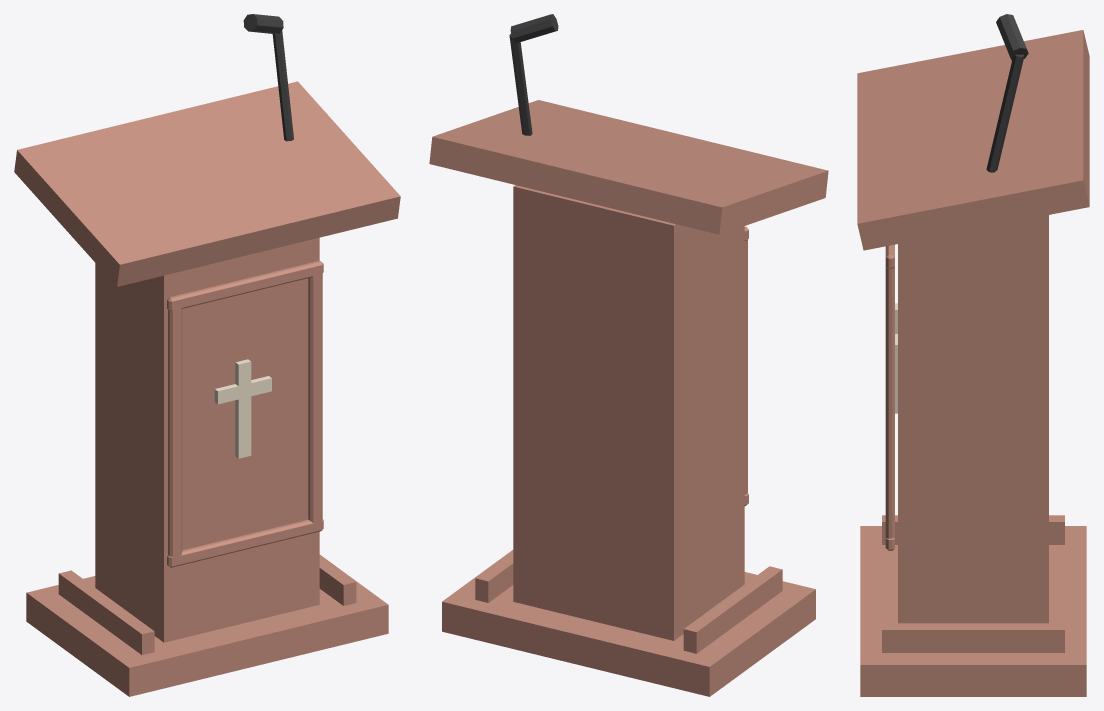
The picture shows the model from 3 angles, left to right: view 1: azimuth 30°, elevation 25°; view 2: azimuth 150°, elevation 25°; view 3: azimuth 270°, elevation 25°; orthographic projection. The views are drawn at different scales.
Parts seen in each view (by area): view 1: Body, Reading top, Foot, Raised panel molding, Raised panel molding.001, Lower plinth, Panel trim.001, Panel trim, Cross upright, Lower plinth.001, Gooseneck microphone, Cross arm (+1 smaller); view 2: Body, Reading top, Foot, Lower plinth, Lower plinth.001, Gooseneck microphone, Raised panel molding, Microphone head; view 3: Body, Reading top, Foot, Lower plinth.001, Raised panel molding.001, Gooseneck microphone, Microphone head, Lower plinth.
Boxes of the visible parts, bbox=[...] form: Body: bbox=[95, 237, 319, 642]; Reading top: bbox=[14, 81, 400, 286]; Foot: bbox=[26, 554, 388, 696]; Raised panel molding: bbox=[168, 308, 182, 563]; Raised panel molding.001: bbox=[308, 274, 322, 529]; Lower plinth: bbox=[58, 570, 154, 654]; Panel trim.001: bbox=[167, 260, 323, 310]; Panel trim: bbox=[167, 519, 323, 567]; Cross upright: bbox=[235, 359, 251, 458]; Lower plinth.001: bbox=[319, 555, 356, 605]; Gooseneck microphone: bbox=[272, 30, 293, 141]; Cross arm: bbox=[214, 376, 271, 404]; Body: bbox=[513, 185, 744, 640]; Reading top: bbox=[429, 100, 828, 234]; Foot: bbox=[442, 550, 815, 696]; Lower plinth: bbox=[683, 566, 782, 653]; Lower plinth.001: bbox=[475, 551, 513, 602]; Gooseneck microphone: bbox=[509, 33, 532, 135]; Raised panel molding: bbox=[744, 240, 747, 494]; Microphone head: bbox=[510, 14, 558, 42]; Body: bbox=[898, 215, 1048, 623]; Reading top: bbox=[857, 30, 1089, 250]; Foot: bbox=[860, 526, 1086, 696]; Lower plinth.001: bbox=[882, 623, 1064, 652]; Raised panel molding.001: bbox=[885, 267, 894, 538]; Gooseneck microphone: bbox=[986, 54, 1024, 172]; Microphone head: bbox=[996, 14, 1028, 60]; Lower plinth: bbox=[882, 515, 1064, 544].
Bounding box in the file's own units: 78 × 156 × 50.87.
